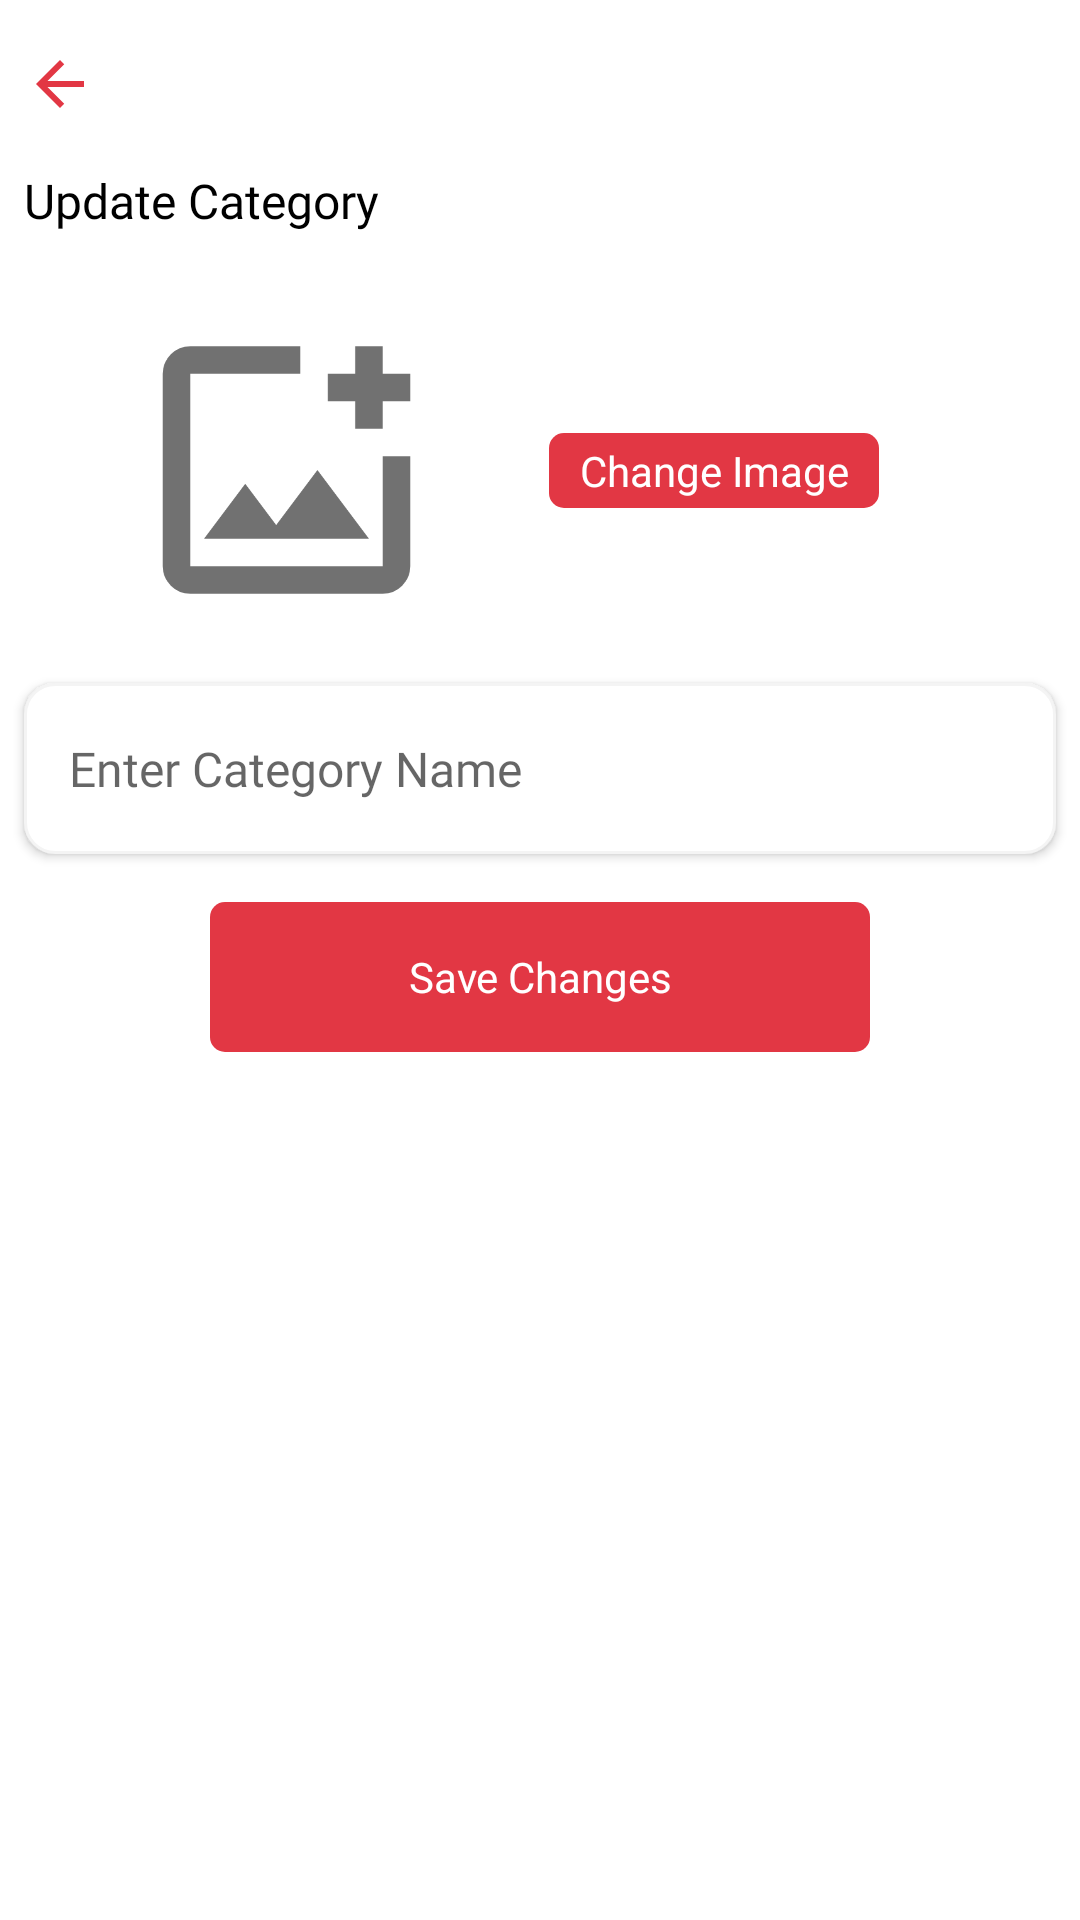

Named icons in this screenshot (1080px x 1920px) and their bounding boxes, (x1, y1, x2, y2):
add category item: (162, 346, 411, 594)
back navigation: (36, 60, 84, 108)
